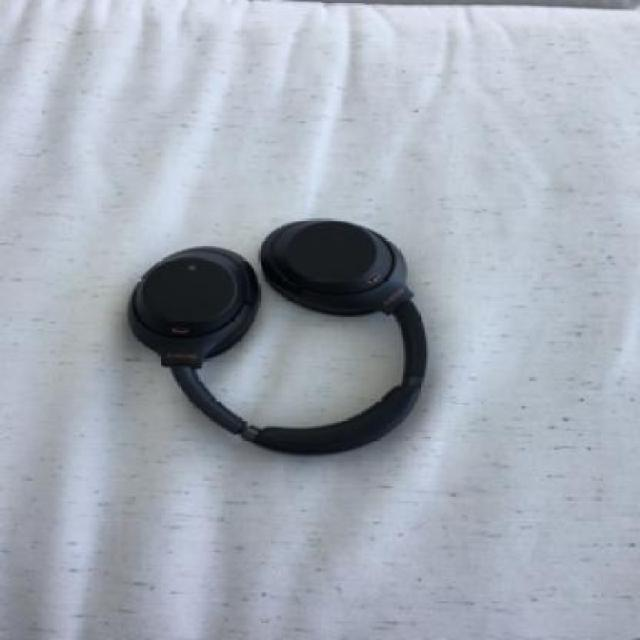earphone: (87, 130, 463, 503)
